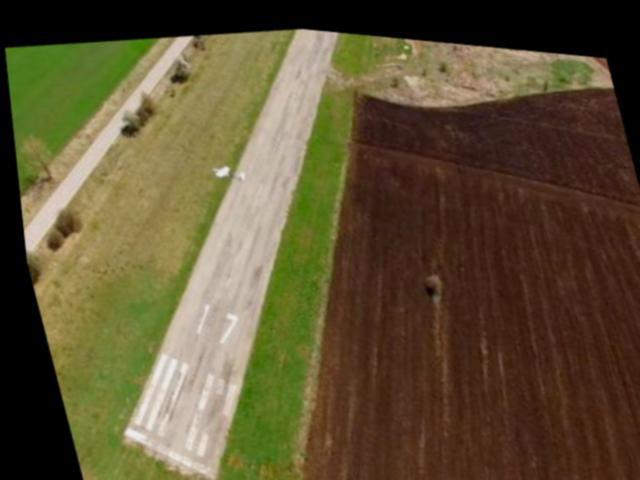uav: (200, 148, 251, 192)
